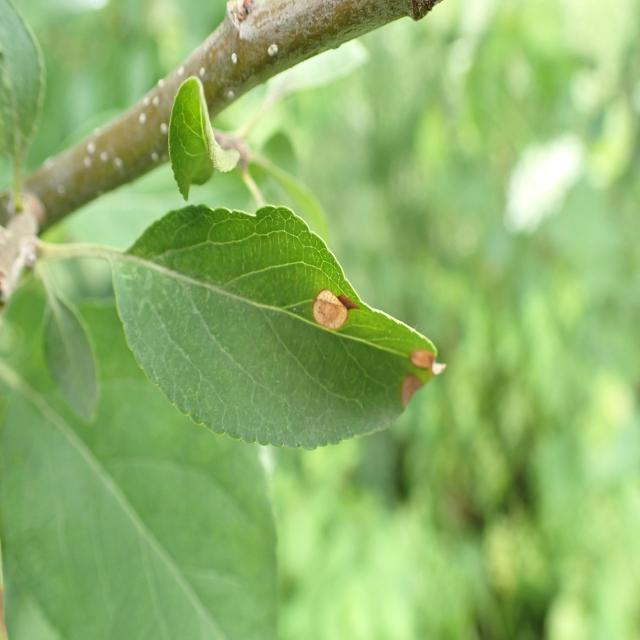Black Rot: (295, 286, 360, 348), (386, 366, 439, 438), (402, 328, 446, 384)
